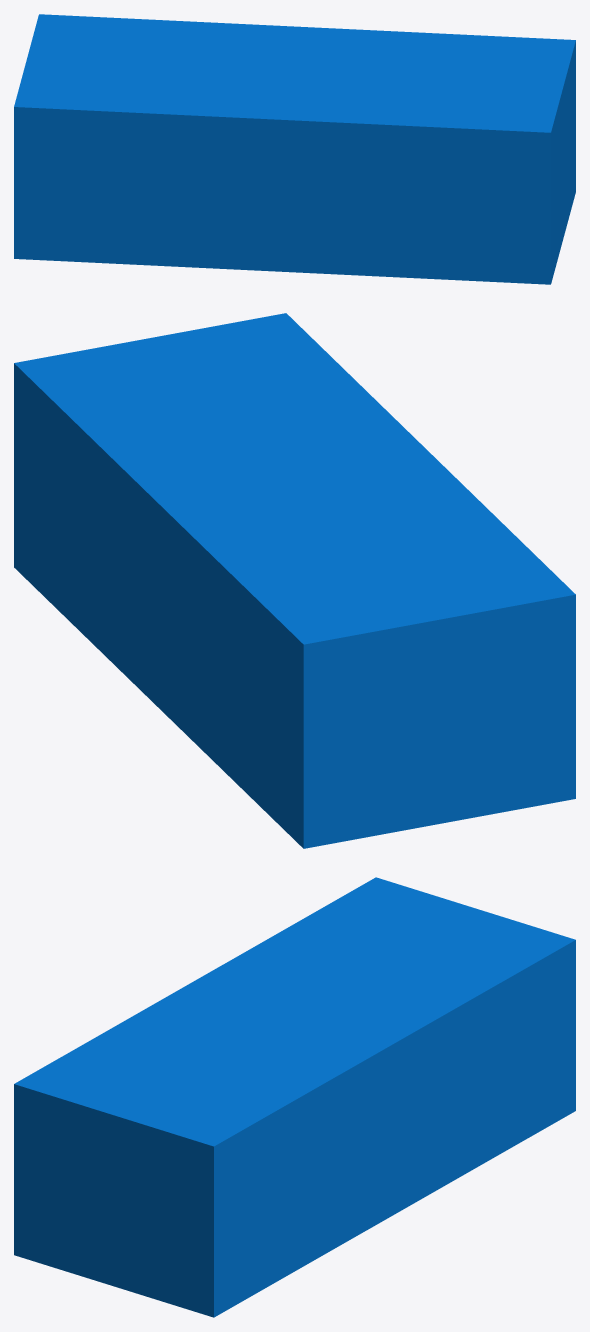
File: Palma_T8.fbx
The picture shows the model from 3 angles, top to bottom: view 1: azimuth 30°, elevation 25°; view 2: azimuth 150°, elevation 25°; view 3: azimuth 270°, elevation 25°; orthographic projection. The views are drawn at different scales.
Visible parts, largest first — view 1: Cube__49_; view 2: Cube__49_; view 3: Cube__49_.
Boxes of the visible parts, x1=… form: Cube__49_: x1=14, y1=14, x2=575, y2=284; Cube__49_: x1=14, y1=313, x2=575, y2=848; Cube__49_: x1=14, y1=877, x2=575, y2=1317.
Size of the model in its own units: 4780 by 1416 by 4215.
